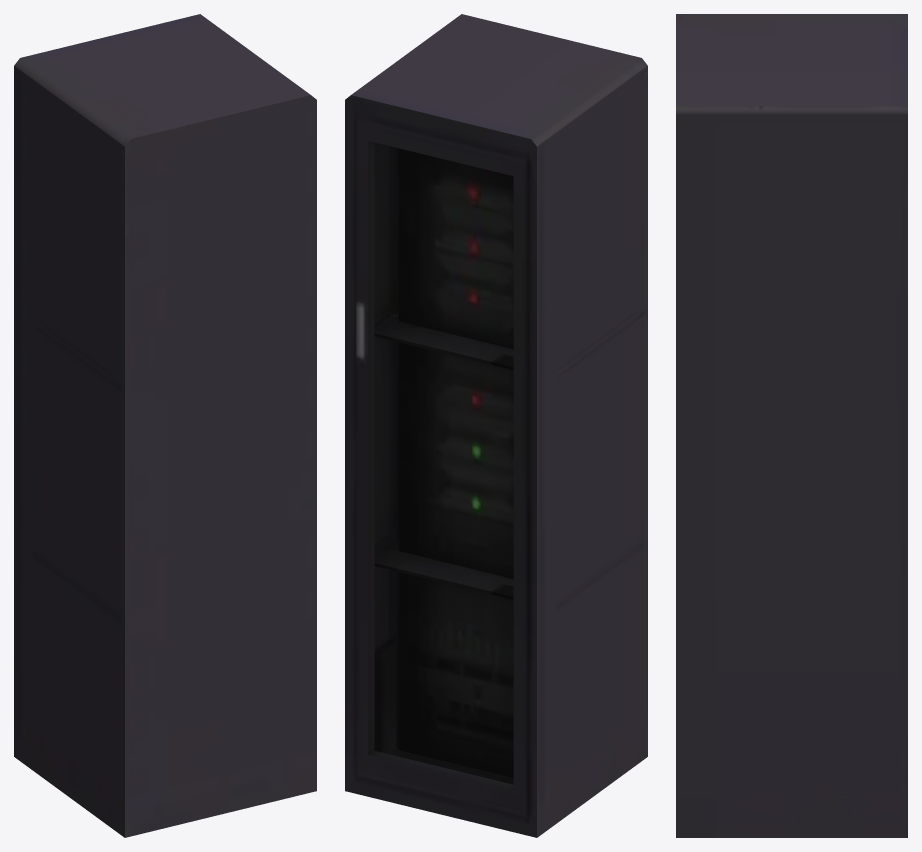
File: server-tower.glb
The picture shows the model from 3 angles, left to right: view 1: azimuth 30°, elevation 25°; view 2: azimuth 150°, elevation 25°; view 3: azimuth 270°, elevation 25°; orthographic projection. The views are drawn at different scales.
Visible parts, largest first — view 1: Object_3; view 2: Object_3; view 3: Object_3.
Boxes of the visible parts, x1,y1,x2,y2 form: Object_3: (14,14,316,837); Object_3: (345,14,647,837); Object_3: (676,14,907,837).
Size of the model in its own units: 0.6014 by 2.09 by 0.6014.
2 materials, 1 textured.
